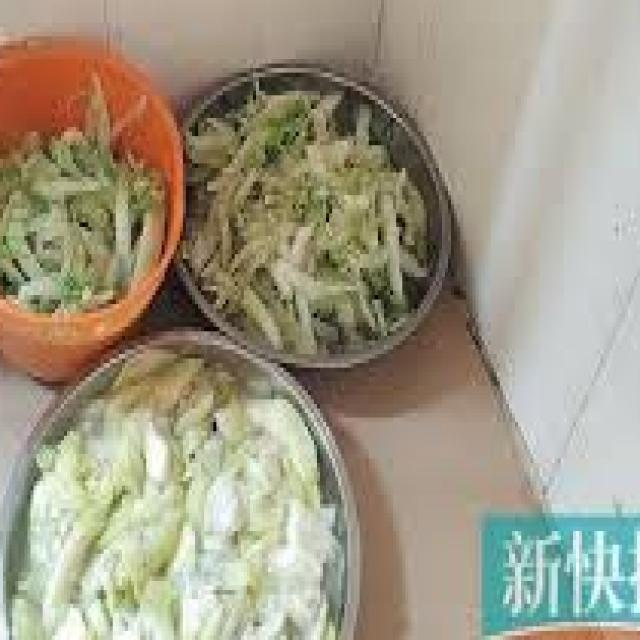inorganic: (60, 359, 326, 635), (185, 113, 436, 338), (0, 80, 154, 316)
